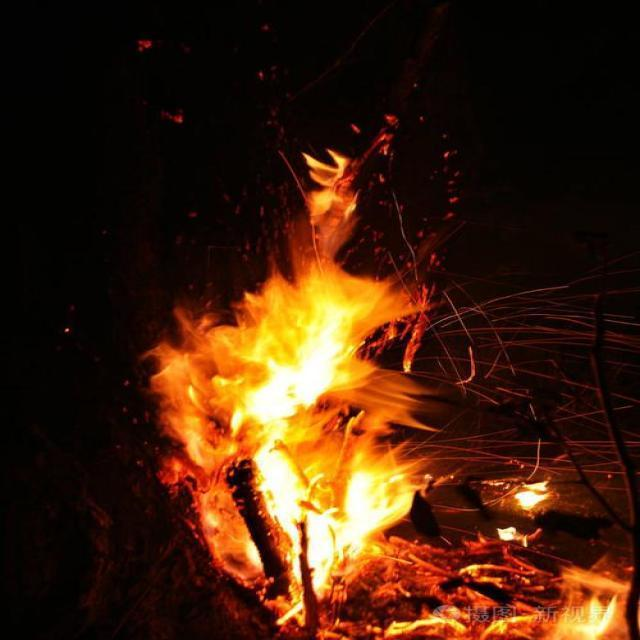fire: (166, 154, 420, 593), (576, 590, 617, 640)
